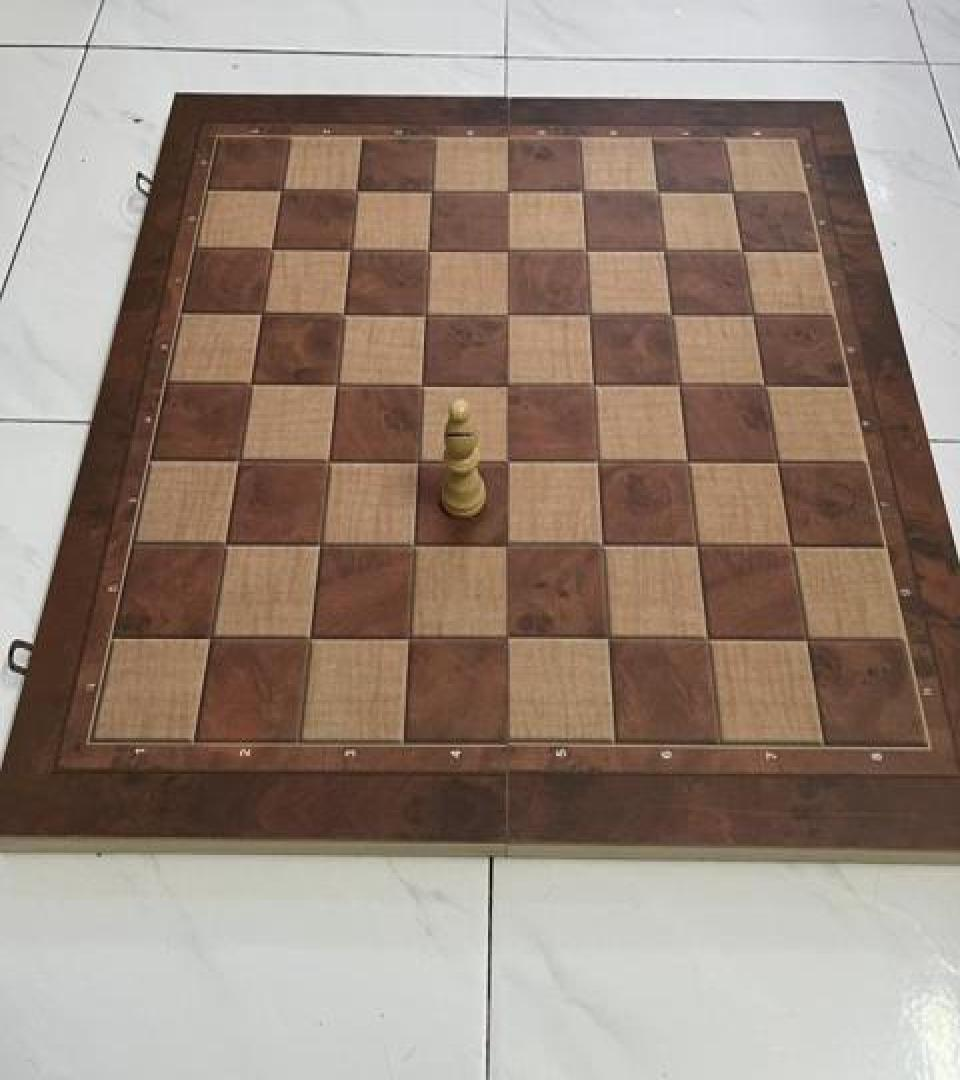xcorner: (488, 228, 524, 269), (410, 228, 446, 269), (332, 228, 368, 269), (254, 228, 290, 269), (244, 291, 280, 332), (660, 363, 696, 404), (574, 363, 610, 404), (489, 363, 525, 404), (403, 362, 439, 403), (318, 362, 354, 403), (232, 361, 268, 402), (678, 525, 714, 566), (583, 525, 619, 566), (489, 524, 525, 565), (395, 524, 431, 565), (301, 523, 337, 564), (714, 171, 750, 211), (639, 171, 675, 211), (564, 170, 600, 210), (488, 170, 524, 210), (413, 170, 449, 210), (338, 170, 374, 210), (263, 169, 299, 209), (724, 230, 760, 270), (645, 230, 681, 270), (567, 230, 603, 270), (734, 294, 770, 334), (652, 294, 688, 334), (570, 294, 606, 334), (489, 293, 525, 333), (407, 293, 443, 333), (325, 293, 361, 333), (746, 365, 782, 405), (759, 441, 795, 481), (669, 441, 705, 481), (579, 440, 615, 480), (489, 440, 525, 480), (399, 439, 435, 479), (310, 439, 346, 479), (220, 439, 256, 479), (773, 527, 809, 567), (207, 522, 243, 562), (788, 620, 824, 660), (688, 619, 724, 659), (589, 619, 625, 659), (489, 618, 525, 658), (390, 618, 426, 658), (291, 617, 327, 657), (192, 617, 228, 657)
